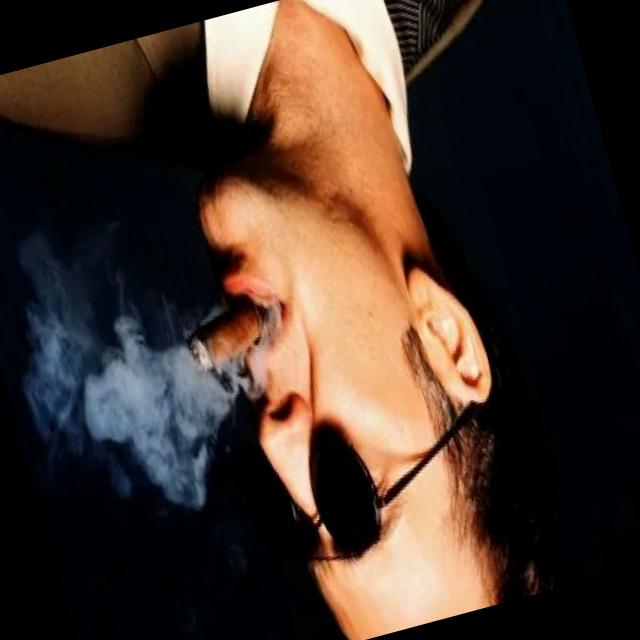cigarette: (159, 286, 291, 392)
